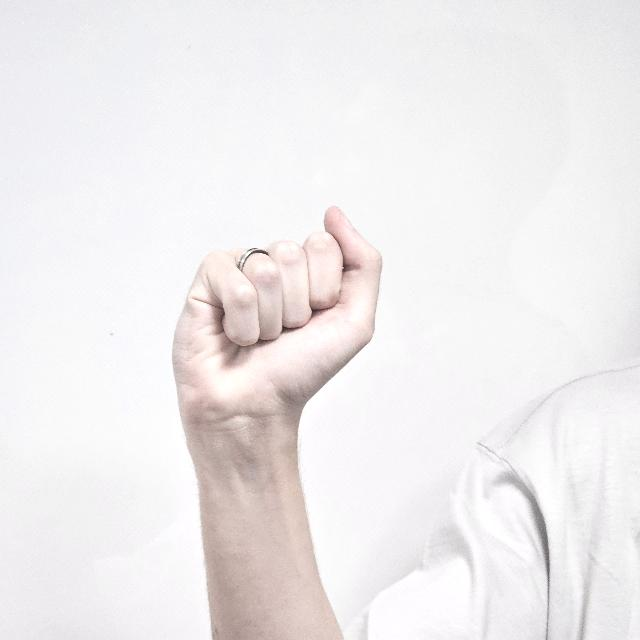Quadro: (171, 205, 381, 462)
